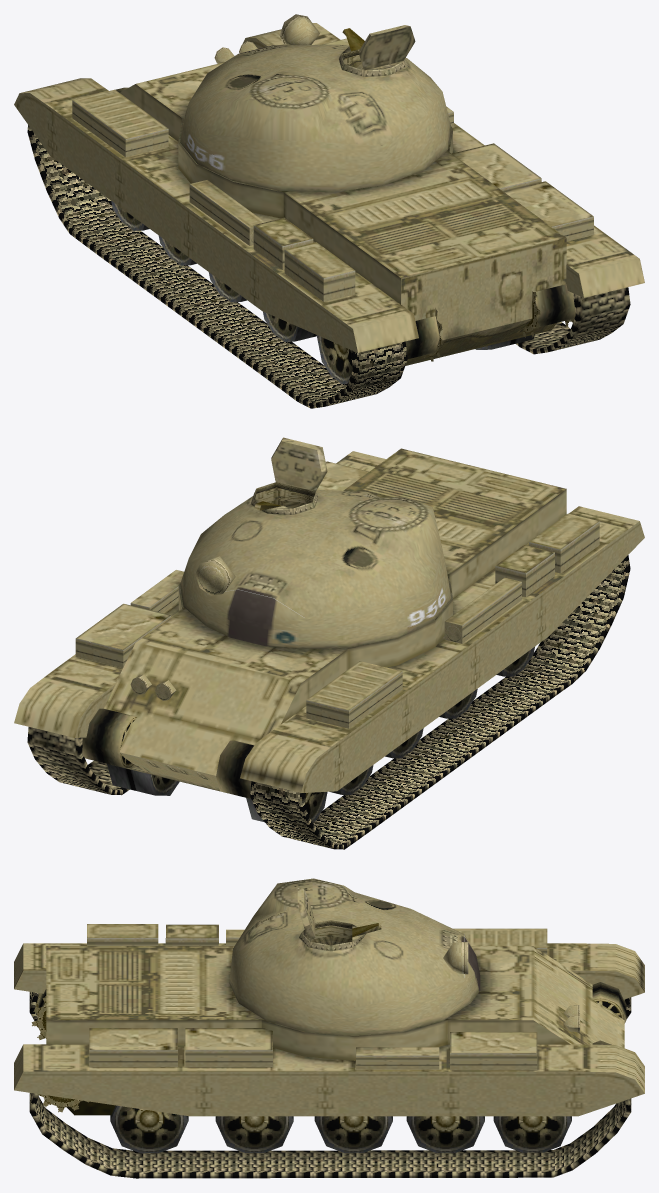
Rendered from T62_IRAQTANK.glb.
The picture shows the model from 3 angles, top to bottom: view 1: azimuth 30°, elevation 25°; view 2: azimuth 150°, elevation 25°; view 3: azimuth 270°, elevation 25°; orthographic projection. The views are drawn at different scales.
Parts seen in each view (by area): view 1: HULL, TURRET, T62_TRACKLEFT, T62_TRACKRIGHT, GUNMOUNT, T62_BIGWHEELRIGHT (×2), T62_COGWHEELLEFT, T62_COGWHEELRIGHT; view 2: HULL, TURRET, T62_TRACKLEFT, T62_TRACKRIGHT, GUNMOUNT, T62_SMALLWHEELLEFT, T62_SMALLWHEELRIGHT, T62_BIGWHEELLEFT, T62_BIGWHEELRIGHT; view 3: HULL, TURRET, T62_TRACKRIGHT, T62_BIGWHEELLEFT (×5), GUNMOUNT, T62_SMALLWHEELRIGHT, T62_COGWHEELRIGHT.
Boxes of the visible parts, box(x1,y1,x2,y2) form: HULL: box(14, 23, 644, 365); TURRET: box(180, 14, 451, 192); T62_TRACKLEFT: box(27, 125, 407, 408); T62_TRACKRIGHT: box(516, 287, 630, 354); GUNMOUNT: box(338, 25, 415, 76); T62_BIGWHEELRIGHT (×2): box(263, 311, 352, 383); T62_COGWHEELLEFT: box(522, 284, 582, 337); T62_COGWHEELRIGHT: box(405, 308, 443, 361); HULL: box(14, 448, 644, 792); TURRET: box(180, 487, 451, 648); T62_TRACKLEFT: box(250, 555, 630, 849); T62_TRACKRIGHT: box(27, 727, 129, 795); GUNMOUNT: box(250, 437, 327, 514); T62_SMALLWHEELLEFT: box(82, 708, 136, 767); T62_SMALLWHEELRIGHT: box(216, 740, 253, 798); T62_BIGWHEELLEFT: box(107, 764, 179, 795); T62_BIGWHEELRIGHT: box(246, 792, 327, 822); HULL: box(14, 924, 644, 1116); TURRET: box(229, 878, 480, 1036); T62_TRACKRIGHT: box(29, 1093, 631, 1178); T62_BIGWHEELLEFT (×5): box(110, 1105, 571, 1153); GUNMOUNT: box(297, 888, 381, 951); T62_SMALLWHEELRIGHT: box(592, 982, 626, 1023); T62_COGWHEELRIGHT: box(31, 989, 46, 1039).
Bounding box in the file's own units: 3.29 × 2.87 × 6.84.
7 materials, 7 textured.
